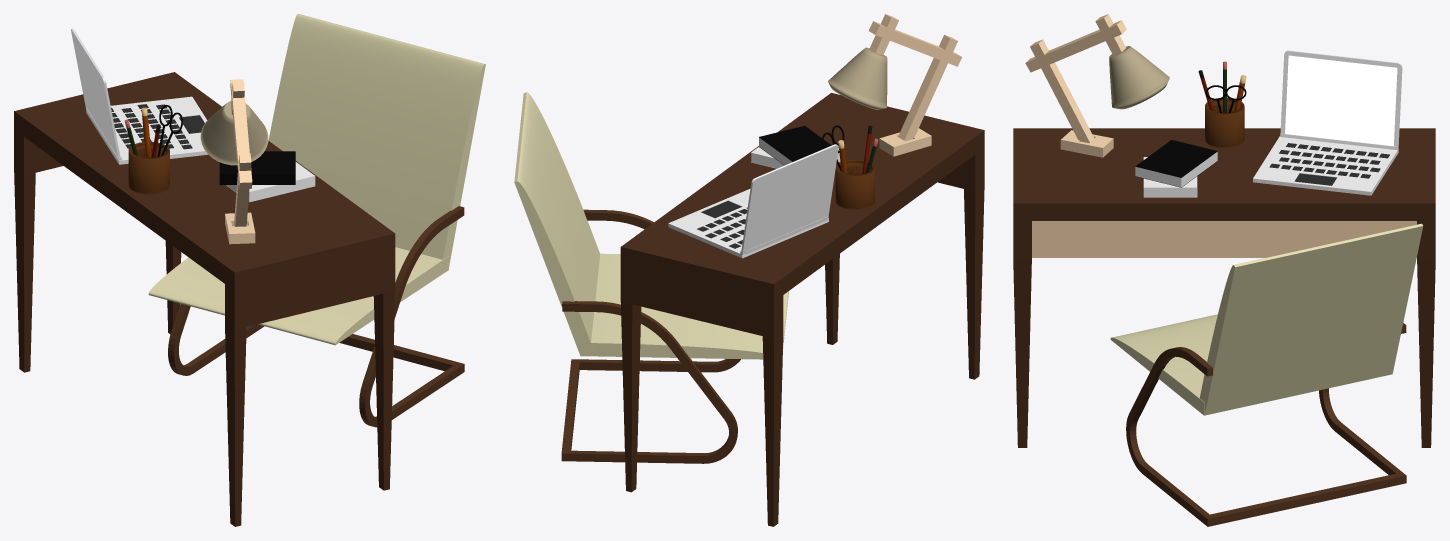
Rendered from desk.glb.
3 renders of one model, left to right at view 1: azimuth 30°, elevation 25°; view 2: azimuth 150°, elevation 25°; view 3: azimuth 270°, elevation 25°, orthographic. The views are drawn at different scales.
Visible parts, largest first — view 1: desk, chair, chair set 2, chair hold, Cube.068, Cylinder.070, Cube.070, Cylinder.031, Book0.003, Cube.066, Book0.002, Cube.065 (+1 smaller); view 2: desk, chair, chair hold, chair set 2, Cube.070, Cylinder.070, Cube.068, Cylinder.031, Book0.003, Cube.065, Cube.066, Cube.064; view 3: desk, chair, desk 2, wallpaper pc, chair hold, Cube.068, chair set 2, Cylinder.070, Book0.003, Cube.070, Cylinder.031, Cube.065 (+3 smaller).
Part boxes in pixels (x1,y1,x2,y2): desk: (14,72,395,526); chair: (268,14,485,266); chair set 2: (148,247,448,345); chair hold: (168,206,464,427); Cube.068: (86,96,207,164); Cylinder.070: (200,101,268,165); Cube.070: (71,28,121,160); Cylinder.031: (128,141,169,194); Book0.003: (219,151,295,184); Cube.066: (230,79,252,189); Book0.002: (226,162,315,202); Cube.065: (234,153,251,226); desk: (620,93,984,526); chair: (514,92,600,356); chair hold: (561,209,740,463); chair set 2: (581,253,788,359); Cube.070: (740,144,838,254); Cylinder.070: (828,47,887,109); Cube.068: (668,189,828,258); Cylinder.031: (835,159,874,209); Book0.003: (759,126,840,165); Cube.065: (898,34,957,141); Cube.066: (868,21,961,66); Cube.064: (879,128,931,156); desk: (1013,128,1435,447); chair: (1199,223,1423,415); desk 2: (1032,221,1416,257); wallpaper pc: (1285,55,1397,146); chair hold: (1126,323,1406,526); Cube.068: (1253,136,1398,195); chair set 2: (1110,314,1217,415); Cylinder.070: (1109,46,1169,109); Book0.003: (1135,140,1217,187); Cube.070: (1280,50,1402,150); Cylinder.031: (1205,97,1244,147); Cube.065: (1030,39,1094,143).
Bounding box in the file's own units: 0.0829 × 0.0862 × 0.0863.
